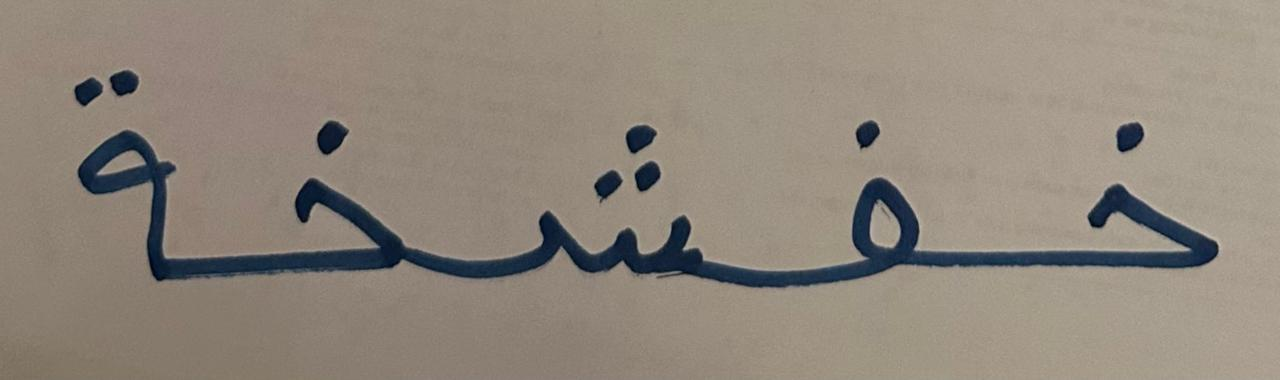feh: (761, 56, 981, 338)
lam: (987, 48, 1253, 335), (215, 69, 465, 337)
tah: (470, 61, 759, 334)
thal: (30, 13, 211, 324)
